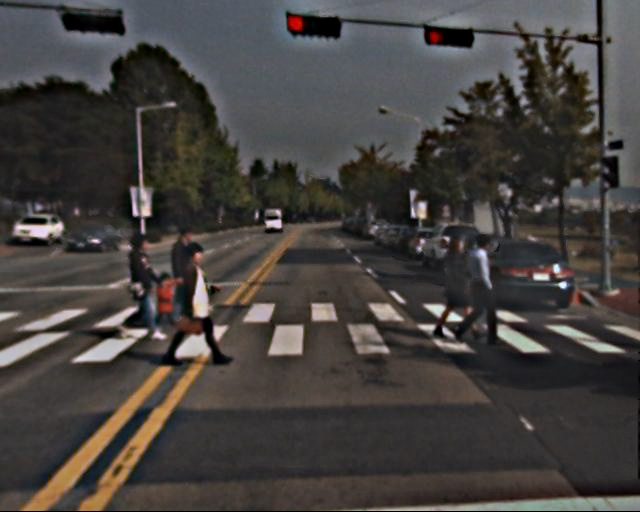person: (170, 244, 221, 368), (459, 233, 505, 346), (120, 233, 165, 343), (163, 227, 207, 335), (437, 234, 480, 340)
